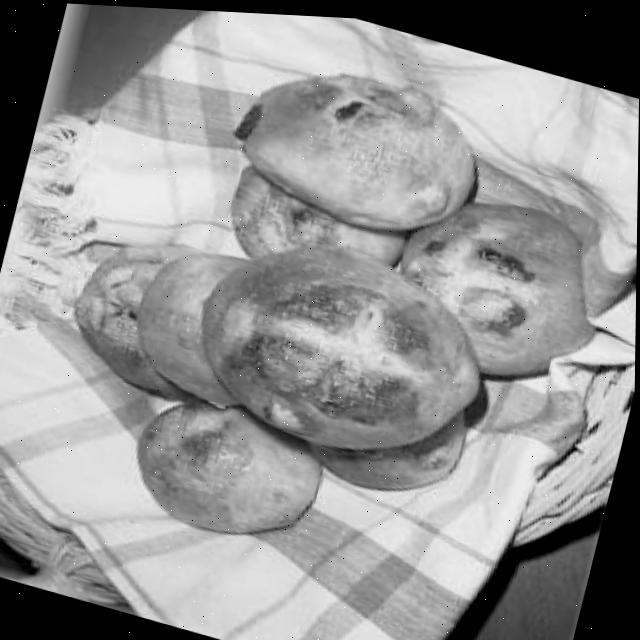面包点心: (27, 12, 623, 615)
